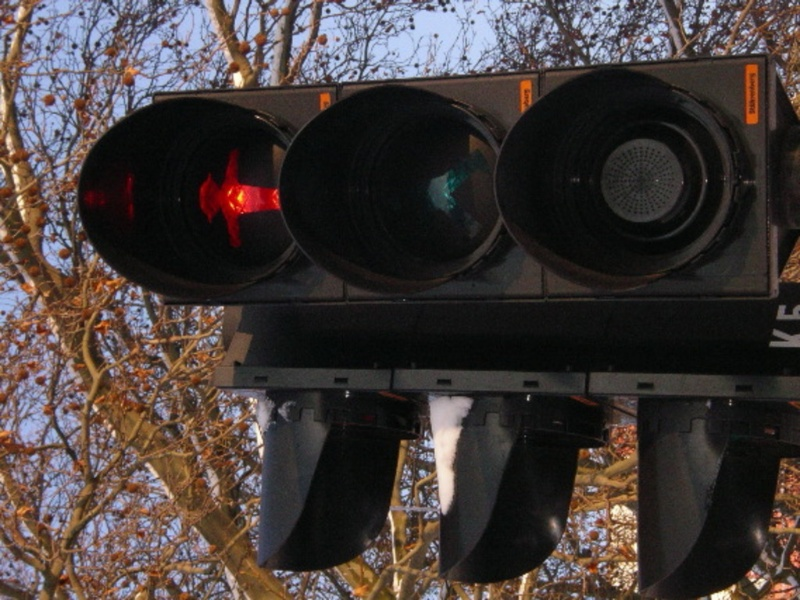red_light: (75, 92, 323, 281)
